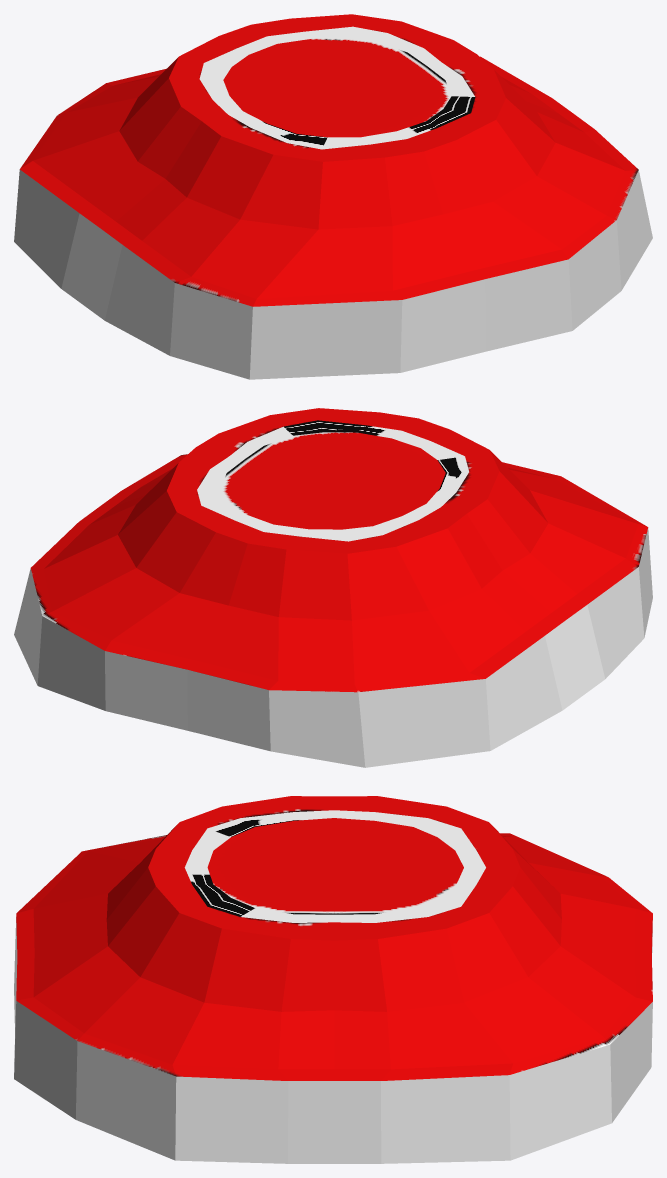
Rendered from hopo_two.fbx.
The picture shows the model from 3 angles, top to bottom: view 1: azimuth 30°, elevation 25°; view 2: azimuth 150°, elevation 25°; view 3: azimuth 270°, elevation 25°; orthographic projection. The views are drawn at different scales.
Parts seen in each view (by area): view 1: pasted__polySurface1; view 2: pasted__polySurface1; view 3: pasted__polySurface1.
Part boxes in pixels (bbox=[...]): pasted__polySurface1: bbox=[14, 14, 652, 379]; pasted__polySurface1: bbox=[14, 408, 652, 767]; pasted__polySurface1: bbox=[14, 796, 652, 1163].
Size of the model in its own units: 0.9786 by 0.2885 by 1.
Materials: 1 (1 with a texture image).
